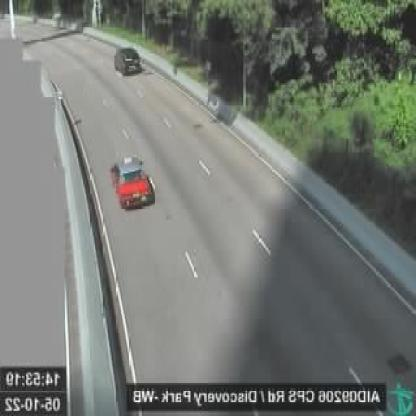Car: (112, 154, 154, 208), (114, 47, 143, 73)
